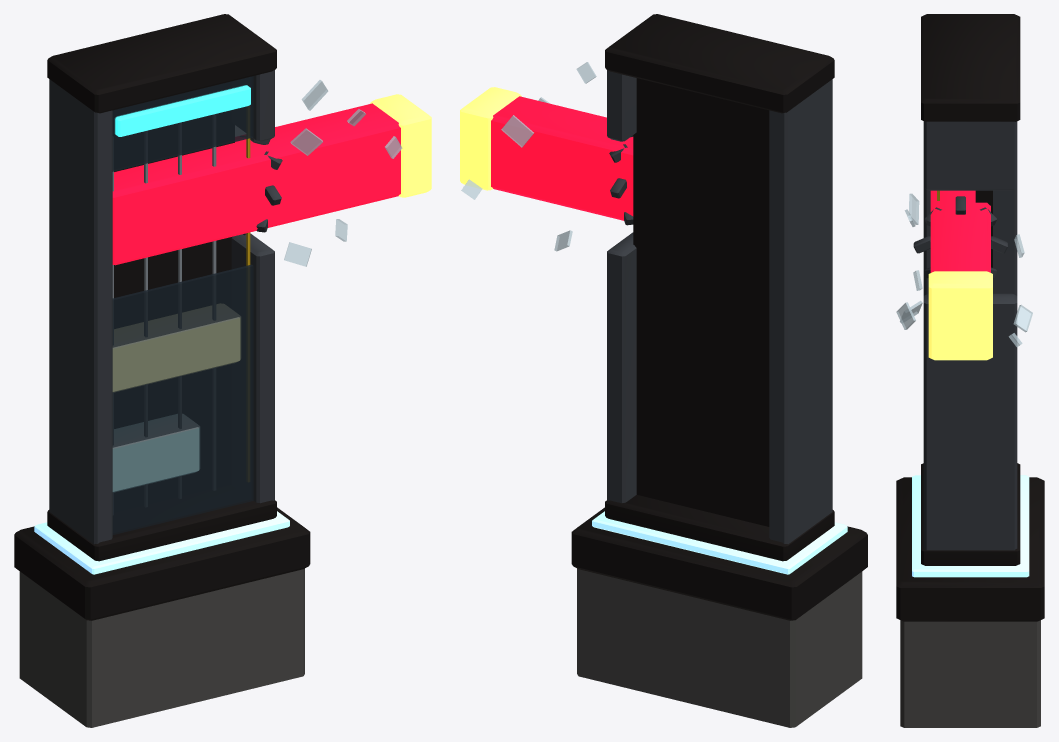
Rendered from lmf_codex_monolith.glb.
3 renders of one model, left to right at view 1: azimuth 30°, elevation 25°; view 2: azimuth 150°, elevation 25°; view 3: azimuth 270°, elevation 25°, orthographic.
Visible parts, largest first — view 1: body; view 2: body; view 3: body.
Part boxes in pixels (<box>): body: <box>14,14,431,727</box>; body: <box>460,14,867,727</box>; body: <box>896,14,1044,727</box>.
Bounding box in the file's own units: 10.62 × 17.47 × 3.81.
